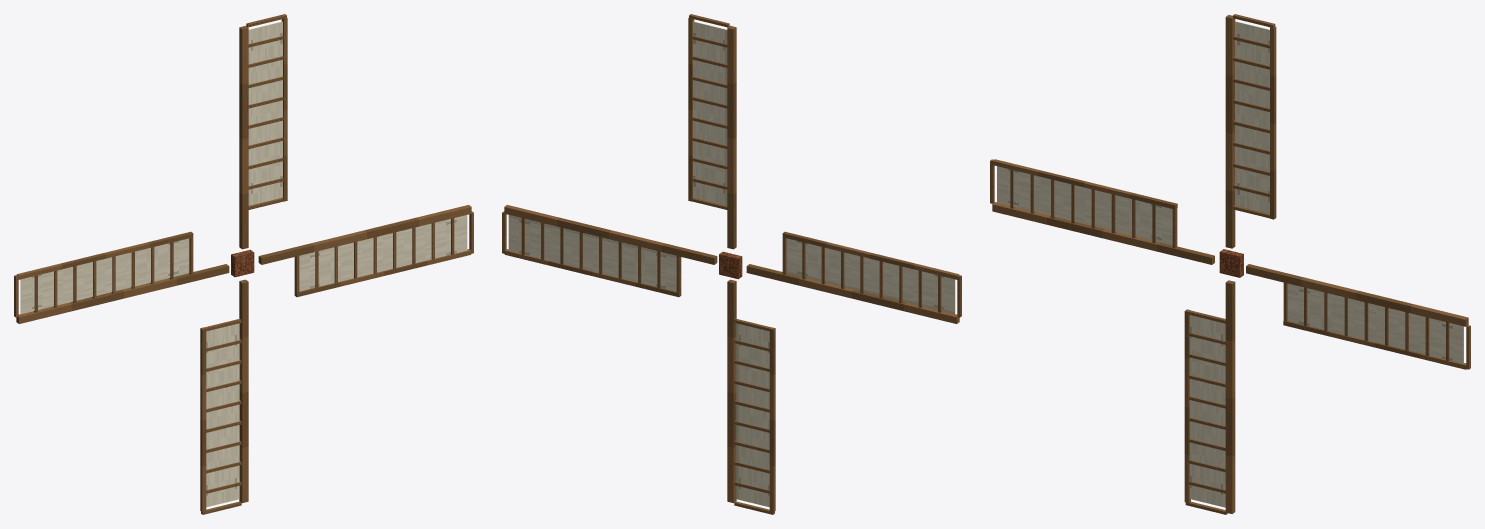
The model's file is windmill_sails.obj.
3 renders of one model, left to right at view 1: azimuth 30°, elevation 25°; view 2: azimuth 150°, elevation 25°; view 3: azimuth 330°, elevation 25°, orthographic. The views are drawn at different scales.
Visible parts, largest first — view 1: canvas0, canvas3, canvas1, canvas2, stock0, stock3, stock2, stock1, rail2, rail1, rail3, rail0 (+1 smaller); view 2: canvas0, canvas3, canvas1, canvas2, stock0, stock3, stock2, stock1, rail2, rail1, rail3, rail0 (+1 smaller); view 3: canvas2, canvas3, canvas1, canvas0, stock2, stock3, stock0, stock1, rail0, rail1, rail2, rail3 (+1 smaller).
Part boxes in pixels (left/top/right/bottom): canvas0: left=248, top=21, right=282, bottom=205; canvas3: left=299, top=215, right=467, bottom=291; canvas1: left=20, top=238, right=189, bottom=314; canvas2: left=206, top=323, right=239, bottom=507; stock0: left=239, top=25, right=248, bottom=249; stock3: left=258, top=205, right=471, bottom=264; stock2: left=239, top=279, right=248, bottom=503; stock1: left=16, top=264, right=229, bottom=323; rail2: left=200, top=327, right=206, bottom=512; rail1: left=16, top=231, right=193, bottom=279; rail3: left=294, top=249, right=471, bottom=297; rail0: left=281, top=18, right=287, bottom=201; canvas0: left=693, top=21, right=727, bottom=205; canvas3: left=508, top=215, right=676, bottom=291; canvas1: left=786, top=238, right=955, bottom=314; canvas2: left=736, top=323, right=769, bottom=507; stock0: left=727, top=25, right=736, bottom=249; stock3: left=504, top=205, right=717, bottom=264; stock2: left=727, top=279, right=736, bottom=503; stock1: left=746, top=264, right=959, bottom=323; rail2: left=769, top=327, right=775, bottom=512; rail1: left=782, top=231, right=959, bottom=279; rail3: left=504, top=249, right=681, bottom=297; rail0: left=688, top=18, right=694, bottom=201; canvas2: left=1189, top=315, right=1225, bottom=507; canvas3: left=1287, top=283, right=1463, bottom=363; canvas1: left=997, top=166, right=1172, bottom=245; canvas0: left=1235, top=21, right=1269, bottom=213; stock2: left=1225, top=280, right=1235, bottom=513; stock3: left=1246, top=264, right=1468, bottom=326; stock0: left=1225, top=15, right=1235, bottom=248; stock1: left=992, top=202, right=1214, bottom=264; rail0: left=1270, top=26, right=1276, bottom=219; rail1: left=992, top=159, right=1177, bottom=209; rail2: left=1184, top=309, right=1190, bottom=502; rail3: left=1283, top=321, right=1466, bottom=369.
Size of the model in its own units: 8.85 by 8.85 by 0.1562.
